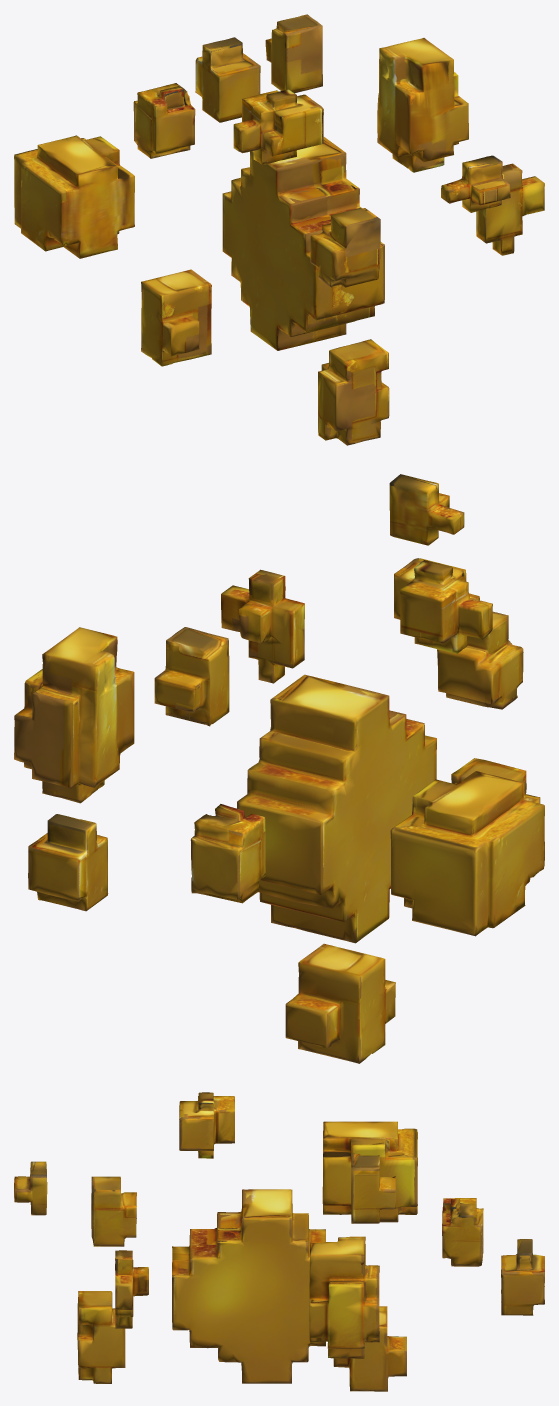
The model's file is goldore.glb.
3 renders of one model, top to bottom at view 1: azimuth 30°, elevation 25°; view 2: azimuth 150°, elevation 25°; view 3: azimuth 270°, elevation 25°, orthographic. The views are drawn at different scales.
Parts seen in each view (by area): view 1: Mesh_0.001; view 2: Mesh_0.001; view 3: Mesh_0.001.
Boxes of the visible parts, x1=… form: Mesh_0.001: x1=14, y1=14, x2=544, y2=445; Mesh_0.001: x1=14, y1=474, x2=544, y2=1063; Mesh_0.001: x1=14, y1=1092, x2=544, y2=1391.
Bounding box in the file's own units: 1 × 0.7647 × 1.27.
Materials: 1 (1 with a texture image).
